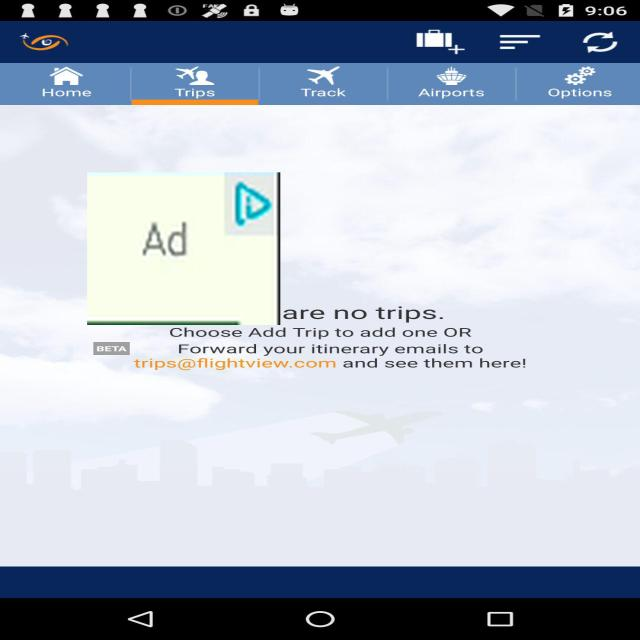sneaking: (87, 172, 280, 325)
